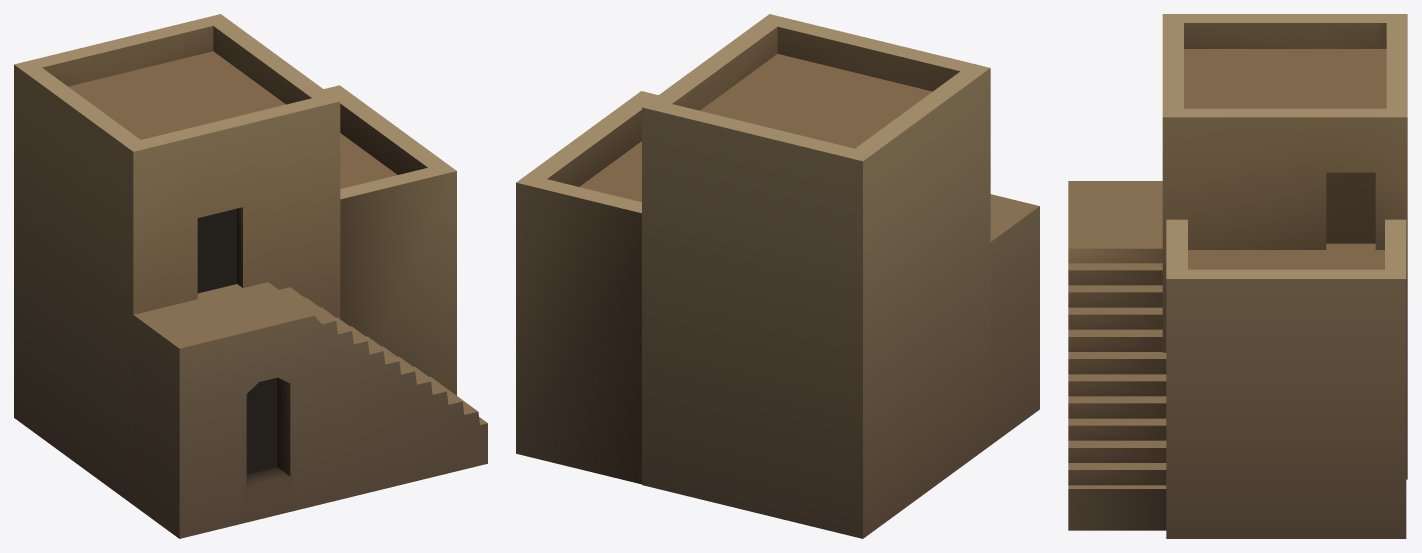
File: Historical_DesertBuildingOld_alt07.glb
3 views of the same model, side by side, from view 1: azimuth 30°, elevation 25°; view 2: azimuth 150°, elevation 25°; view 3: azimuth 270°, elevation 25° (orthographic). The views are drawn at different scales.
Visible parts, largest first — view 1: alt7.007; view 2: alt7.007; view 3: alt7.007.
Part boxes in pixels (x1,y1,x2,y2): alt7.007: [14, 14, 487, 538]; alt7.007: [516, 14, 1039, 538]; alt7.007: [1068, 14, 1407, 538].
Size of the model in its own units: 14.05 by 14.59 by 12.39.
